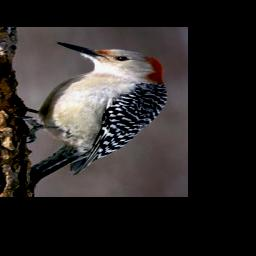Woodpecker: (16, 41, 169, 176)
